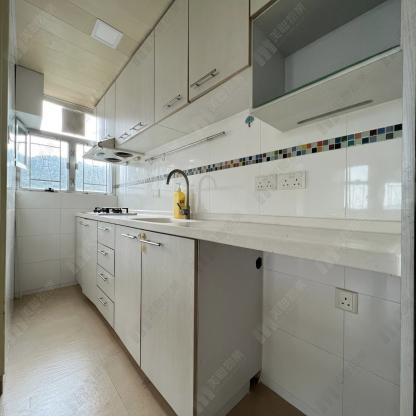Cupboard: (96, 2, 402, 147), (76, 214, 197, 415)
Exhaust Fan: (62, 107, 85, 137)
Exhaust Hood: (80, 136, 143, 166)
Faucet: (166, 167, 198, 219)
Sink: (135, 217, 190, 225)
Stove: (87, 206, 133, 215)
